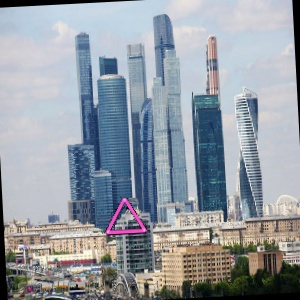triangle: (105, 195, 148, 236)
